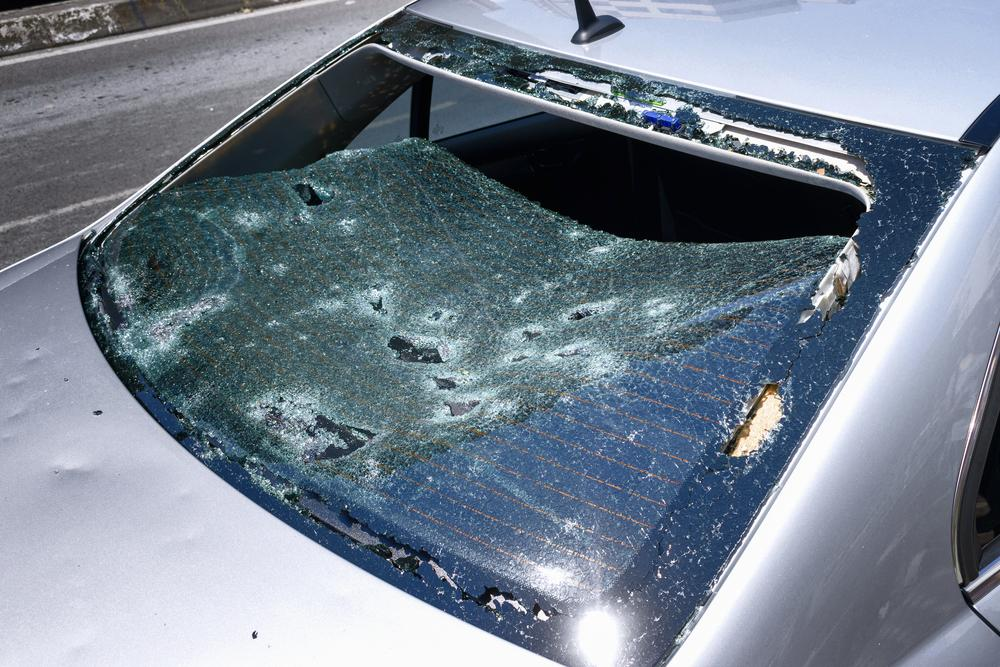dent: (48, 454, 102, 476), (23, 348, 46, 364), (5, 404, 30, 418), (4, 374, 27, 388), (4, 432, 21, 440)
glass shatter: (77, 9, 982, 667)
